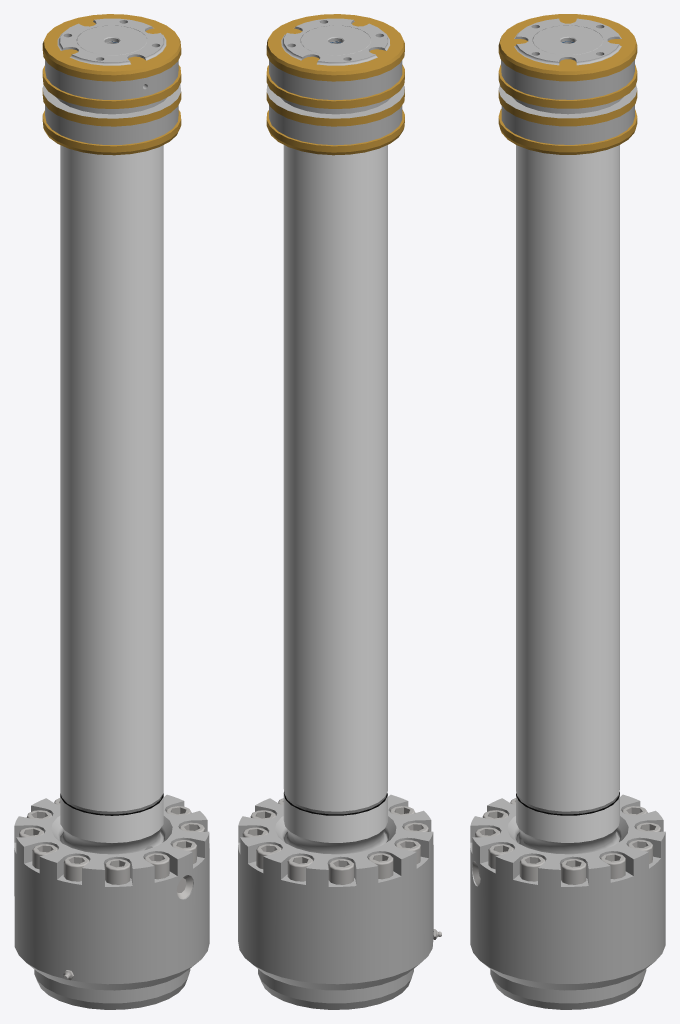
File: (ReefCutter) rbs-tc-160-ca-00 rod.glb
3 renders of one model, left to right at view 1: azimuth 30°, elevation 25°; view 2: azimuth 150°, elevation 25°; view 3: azimuth 270°, elevation 25°, orthographic.
Visible parts, largest first — view 1: Solid1; view 2: Solid1; view 3: Solid1.
Part boxes in pixels (x1,y1,x2,y2): Solid1: [14, 14, 209, 1009]; Solid1: [238, 14, 441, 1009]; Solid1: [470, 14, 665, 1009].
Bounding box in the file's own units: 0.225 × 1.19 × 0.2249.
